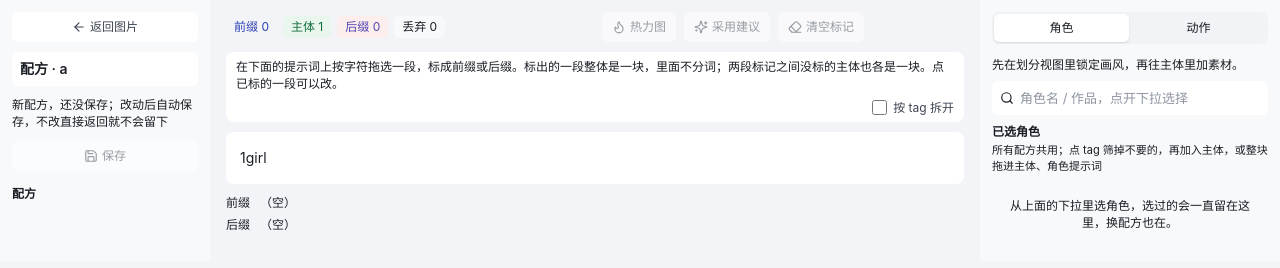
Test case: new recipe › is not saved until something changes, then is created once
Expected: the text "新配方，还没保存；改动后自动保存，不改直接返回就不会留下" is shown, [12,96,198,131]
Expected: the button "删除" is not shown
Replace the text in the field named "配方名" with "我的配方" at (105, 69), box [12,52,198,86]
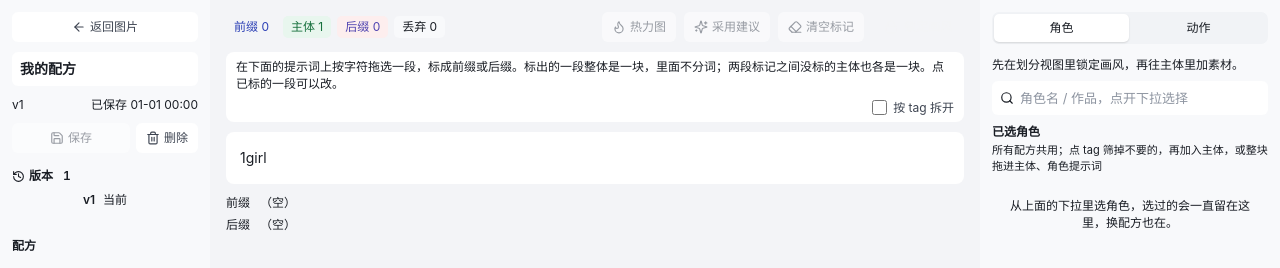
Result: the text "v1" next to "已保存 01-01 00:00" is shown at [12,96,24,113]
